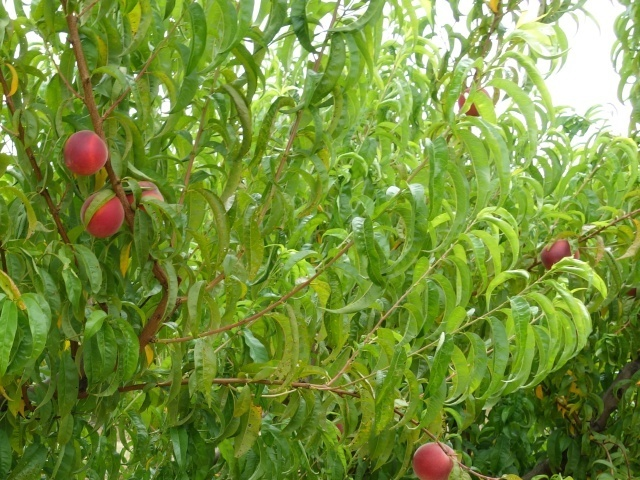peach: (56, 125, 112, 181), (74, 187, 128, 239), (410, 436, 465, 480), (119, 175, 168, 219), (537, 232, 582, 275), (456, 82, 493, 121)
